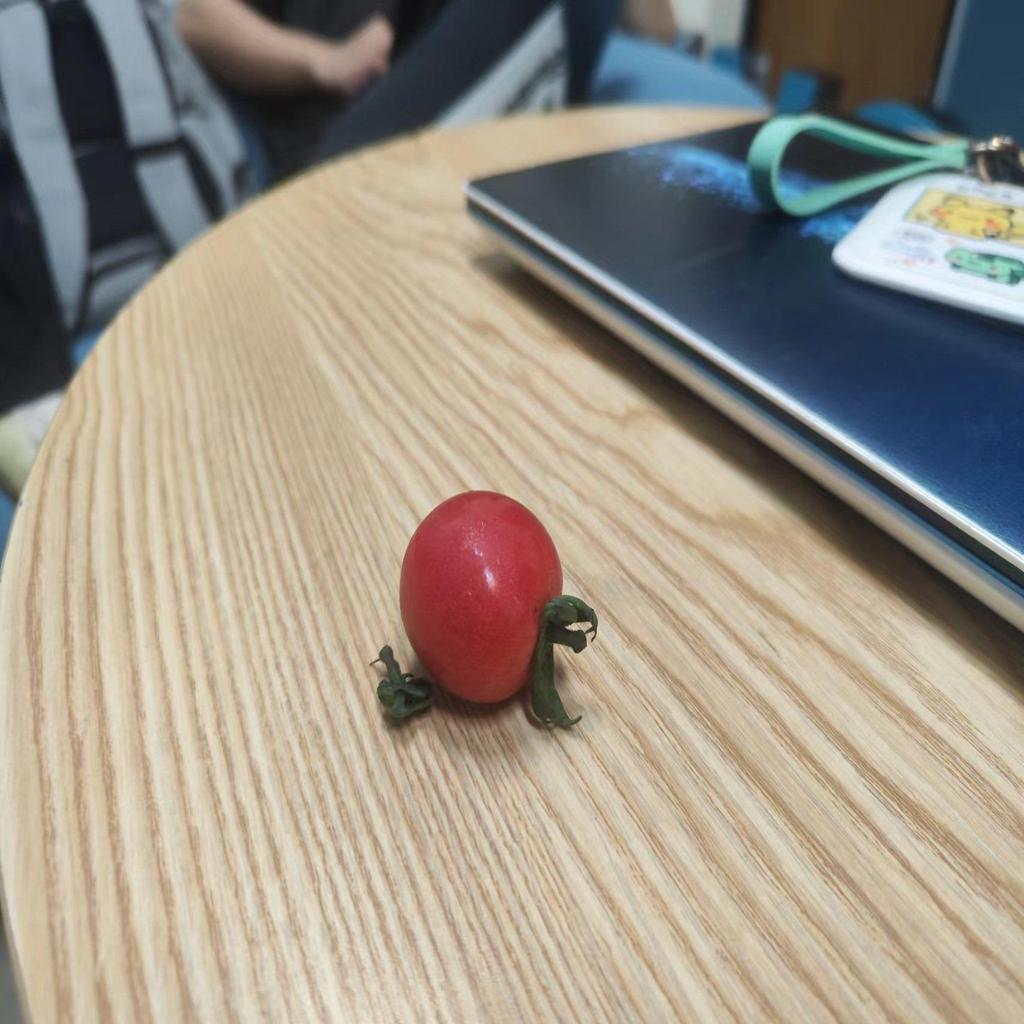tomato: (392, 489, 596, 725)
